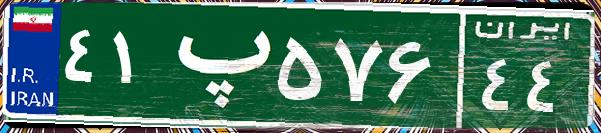1: (110, 28, 158, 105)
4: (57, 26, 110, 107), (475, 38, 525, 113), (525, 38, 570, 115)
5: (273, 28, 330, 110)
6: (385, 28, 445, 110)
7: (330, 28, 385, 110)
پ: (158, 15, 273, 115)
